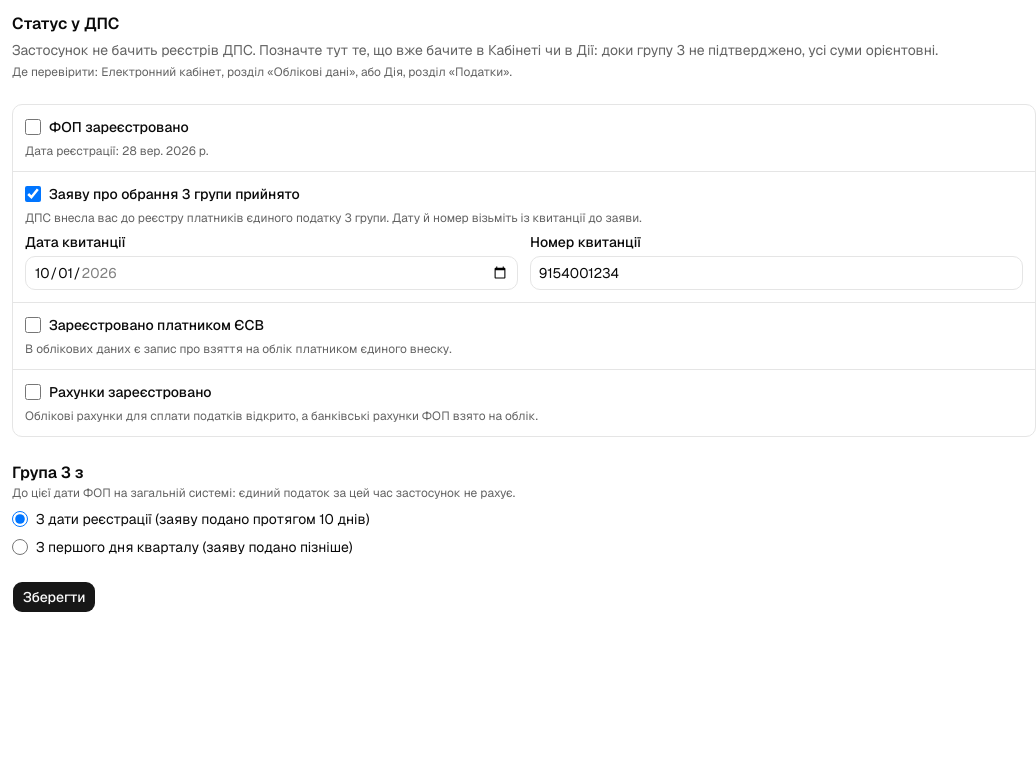
Test: DpsStatusSection › explains a receipt dated after today
What coordinates should you click on to do the following:
click the button "Зберегти"
I would click on:
 (54, 597)
Its box is [12,581,96,613].
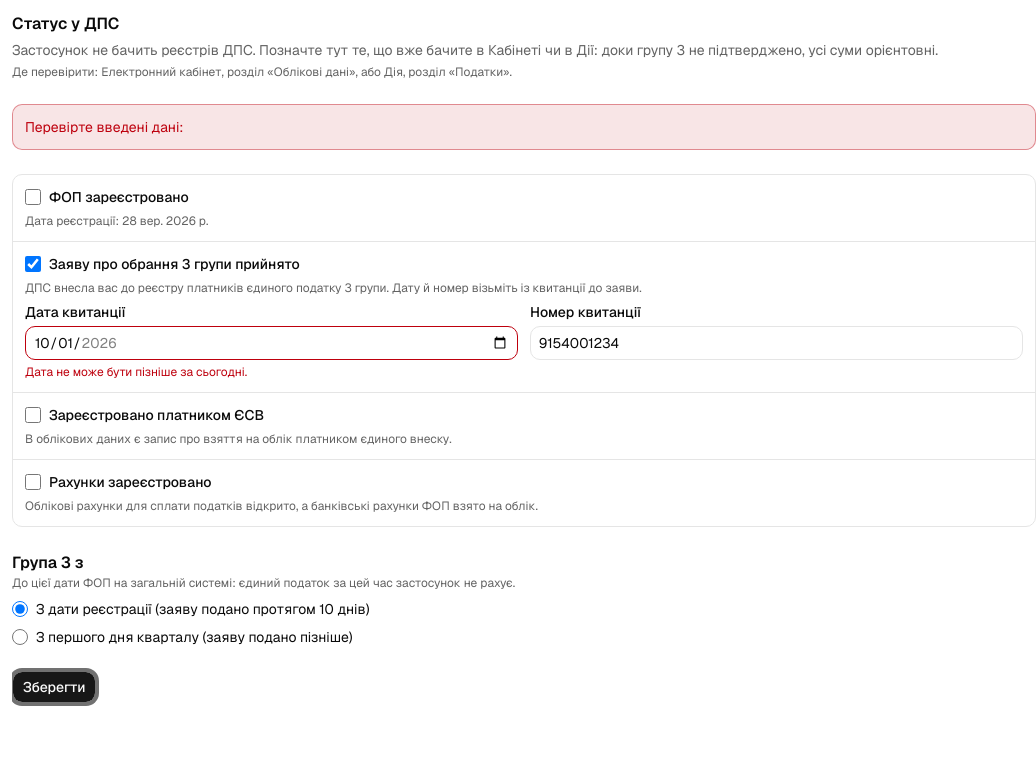
Check: the text "Дата не може бути пізніше за сьогодні." is shown, box [25,364,247,380]
